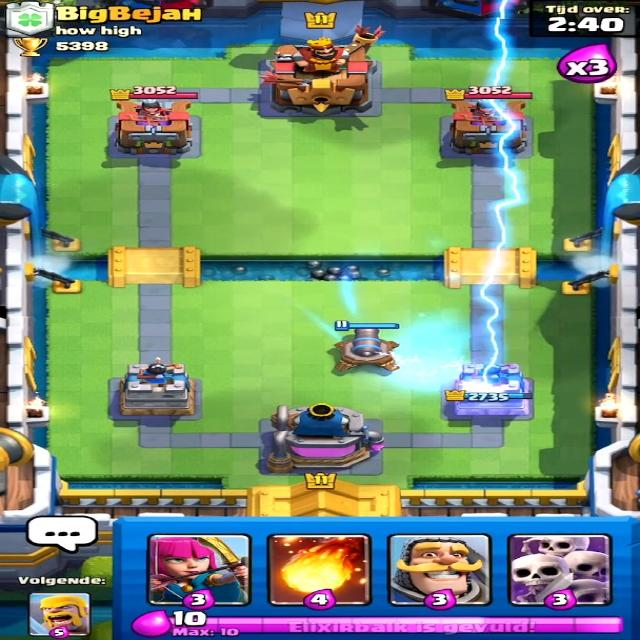Cannon_Troop: (328, 320, 405, 378)
Fireball_Card: (268, 532, 367, 606)
